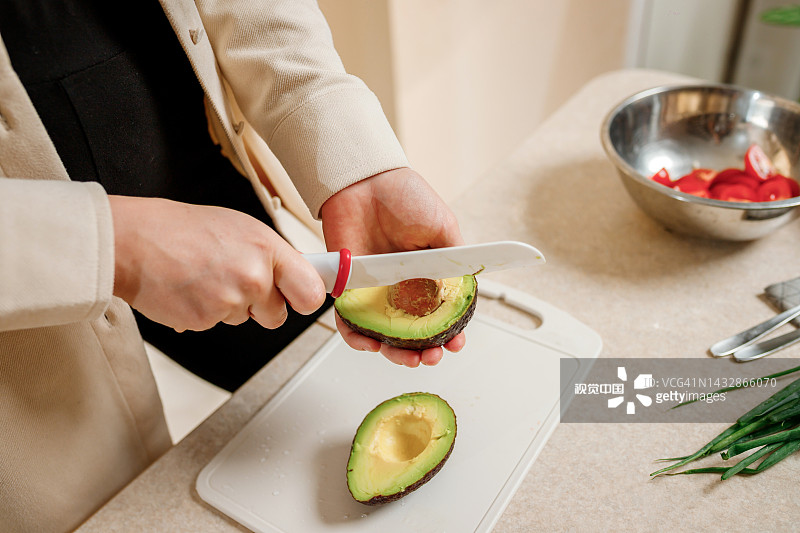no-phone: (95, 168, 342, 349), (307, 164, 496, 371)
